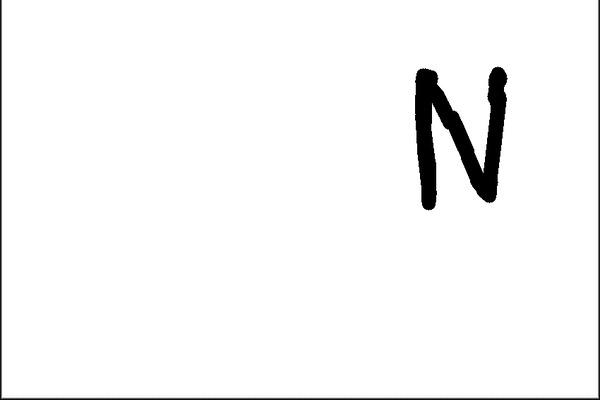N: (408, 59, 512, 215)
